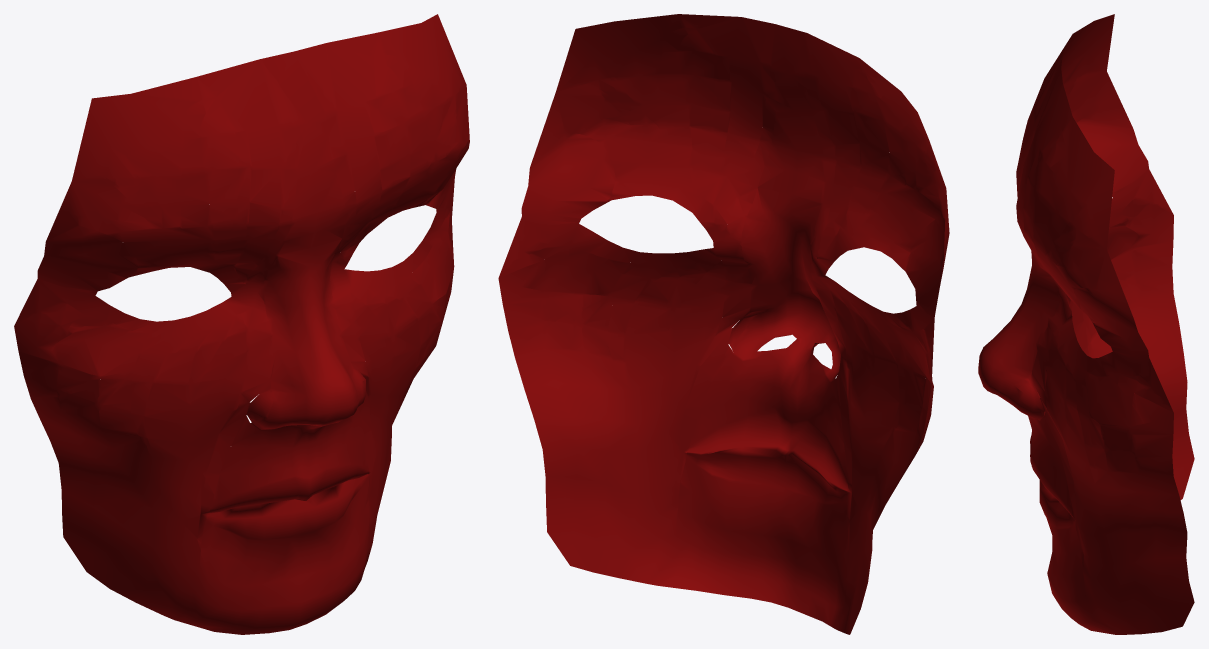
3 views of the same model, side by side, from view 1: azimuth 30°, elevation 25°; view 2: azimuth 150°, elevation 25°; view 3: azimuth 270°, elevation 25° (orthographic). The views are drawn at different scales.
Parts seen in each view (by area): view 1: Group_001; view 2: Group_001; view 3: Group_001.
Part boxes in pixels (x1,y1,x2,y2): Group_001: (14,14,469,634); Group_001: (498,14,949,634); Group_001: (978,14,1194,634).
Bounding box in the file's own units: 32.23 × 40.9 × 14.89.
